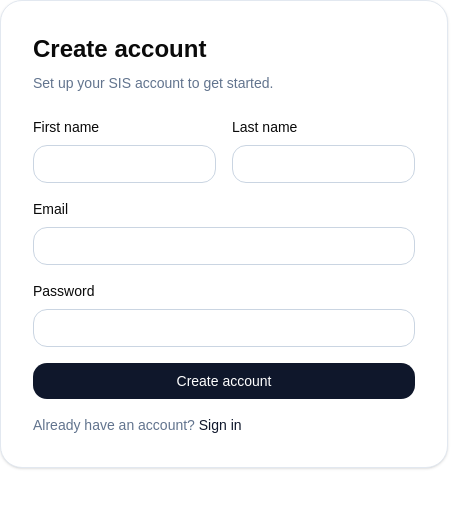
Scenario: RegisterPage — validation › shows email validation error for invalid email
The image size is (465, 510).
Type "Bob" into the field labelled "First name" at (124, 164), box x1=33 y1=145 x2=216 y2=183
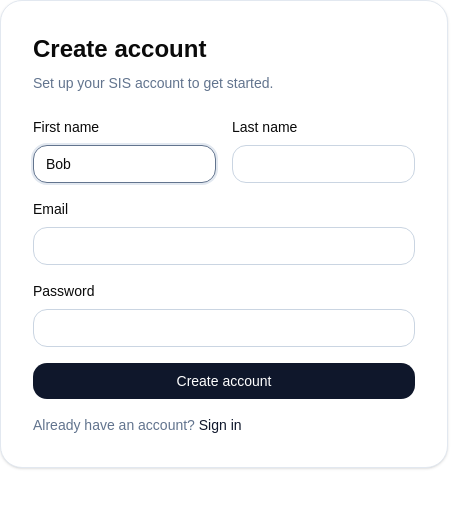
Type "Jones" into the field labelled "Last name" at (324, 164), box x1=232 y1=145 x2=415 y2=183
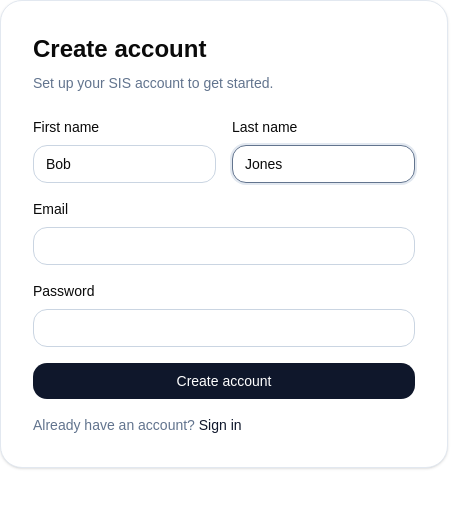
Type "not-an-email" into the field labelled "Email" at (224, 246), box x1=33 y1=227 x2=415 y2=265
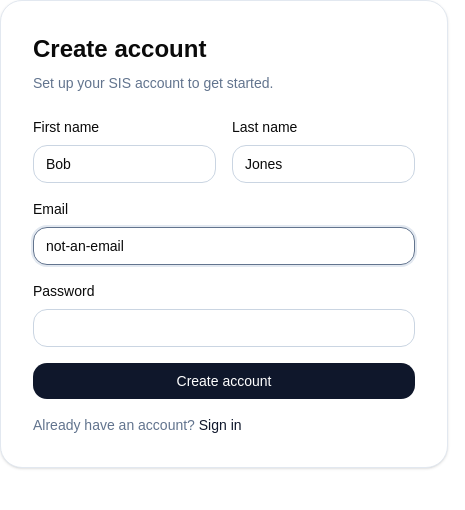
Type "secure456" into the password field labelled "Password" at (224, 328), box x1=33 y1=309 x2=415 y2=347
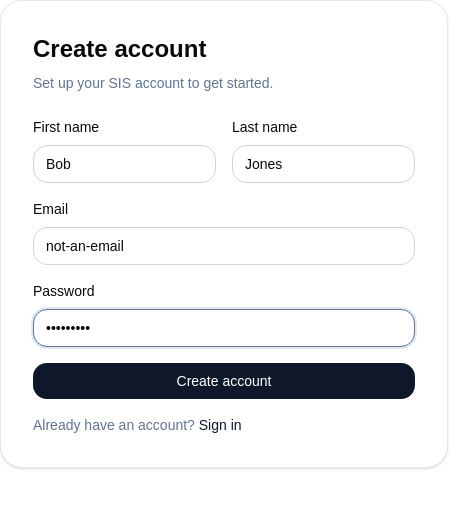
Click the button "Create account" at (224, 381), box x1=33 y1=363 x2=415 y2=399
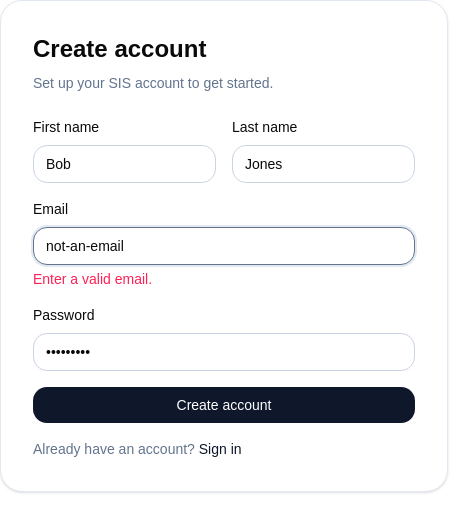
expect the text "Enter a valid email." is shown: met, box x1=33 y1=271 x2=152 y2=287
